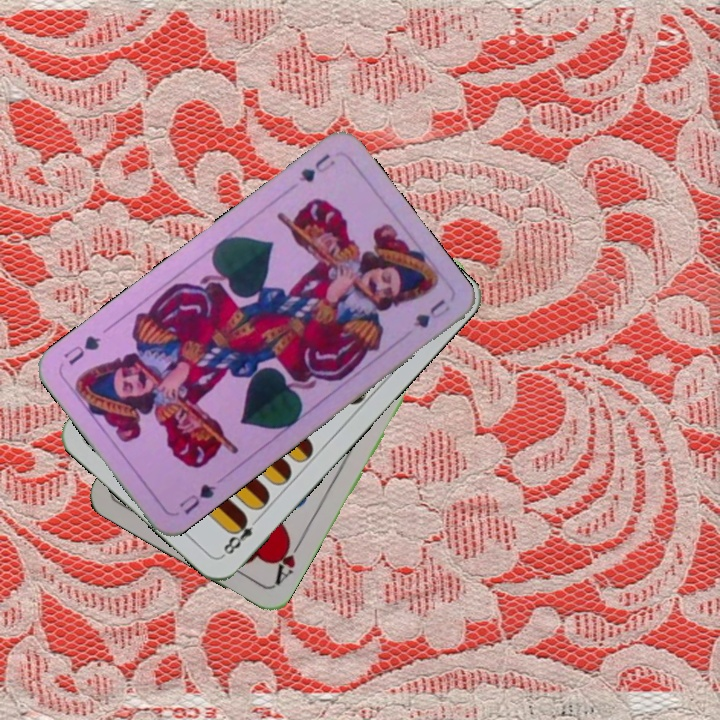E8: (218, 512, 264, 559)
GU: (175, 480, 219, 517), (294, 149, 338, 185)
HA: (270, 533, 306, 588)
